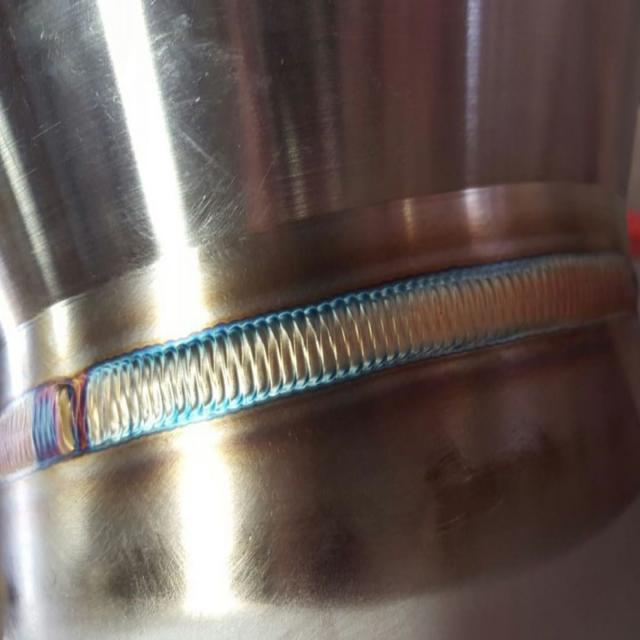Good Welding: (177, 256, 628, 414), (3, 372, 170, 462)
